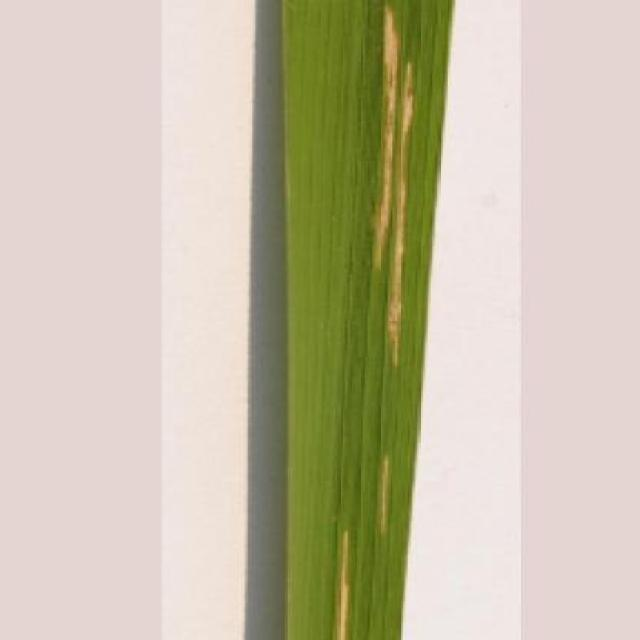Brown_Spot: (277, 0, 458, 640)
